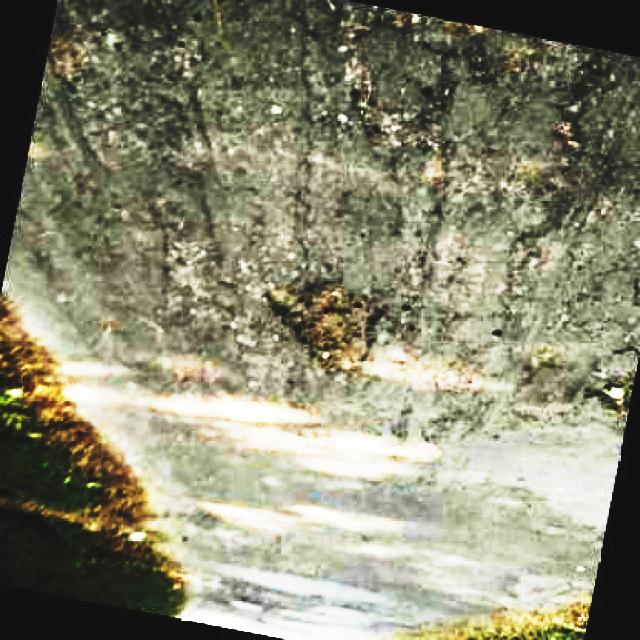pothole: (332, 0, 496, 142), (266, 272, 379, 383)
